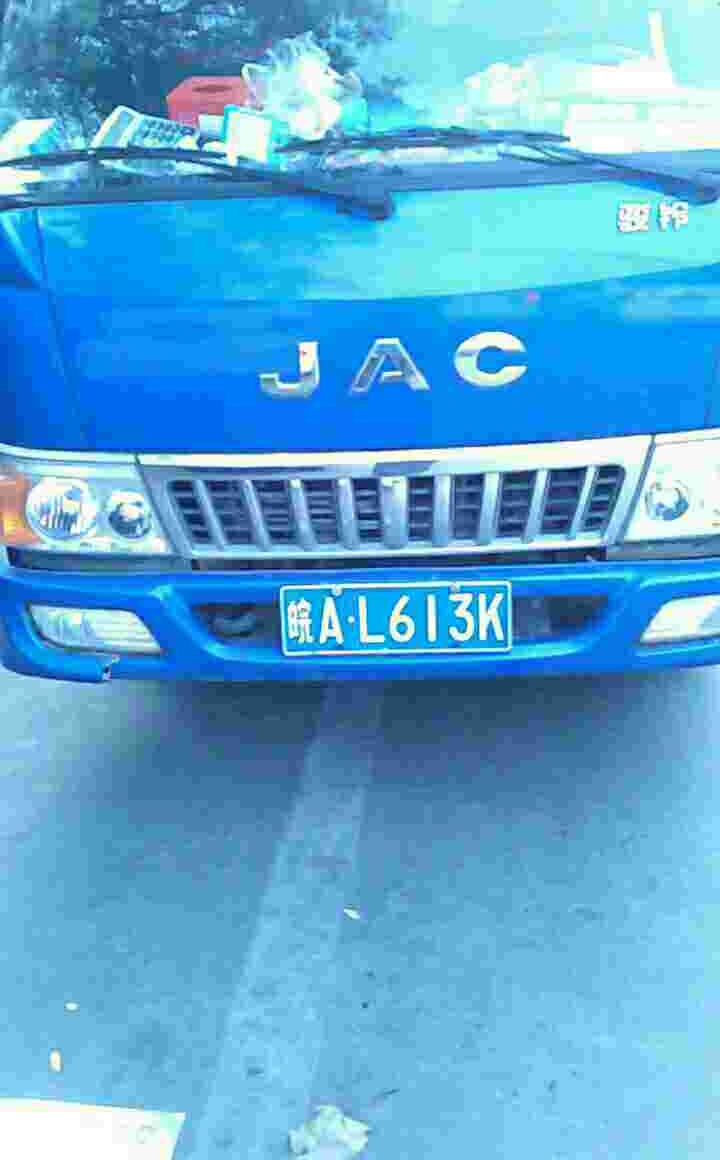license_plate: (265, 573, 528, 668)
